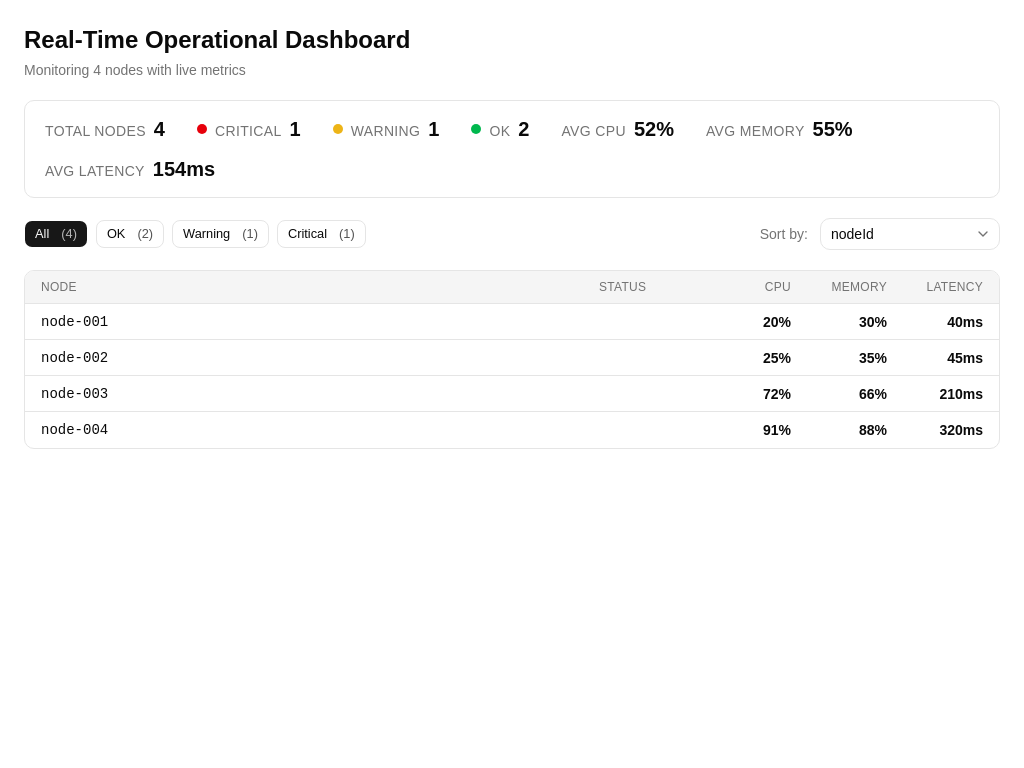
App › opens the node telemetry when a row is clicked
The width and height of the screenshot is (1024, 768).
Expected: the text "Historical Metrics" is not shown
Click the text "node-004" at (75, 430), box [25, 412, 583, 448]
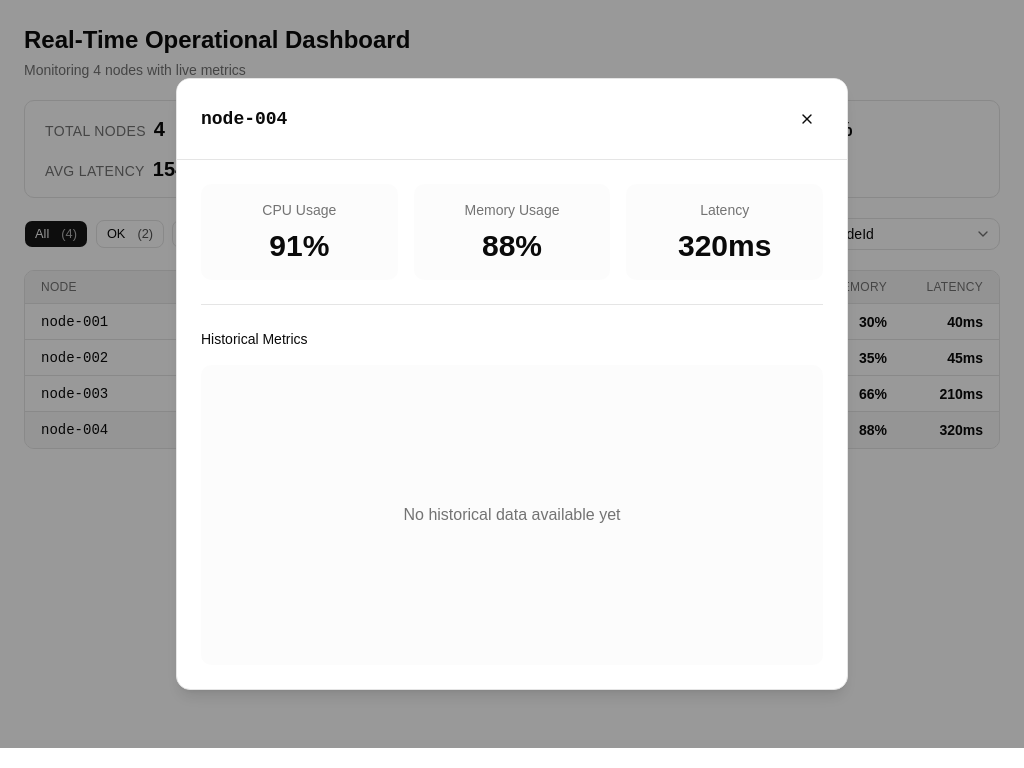
Result: the heading "node-004" is shown at [201, 105, 287, 133]
Result: the text "CPU Usage" is shown at [262, 202, 336, 218]
Result: the heading "Historical Metrics" is shown at [201, 331, 308, 347]
